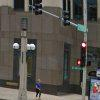Traffic light: (70, 36, 92, 73)
